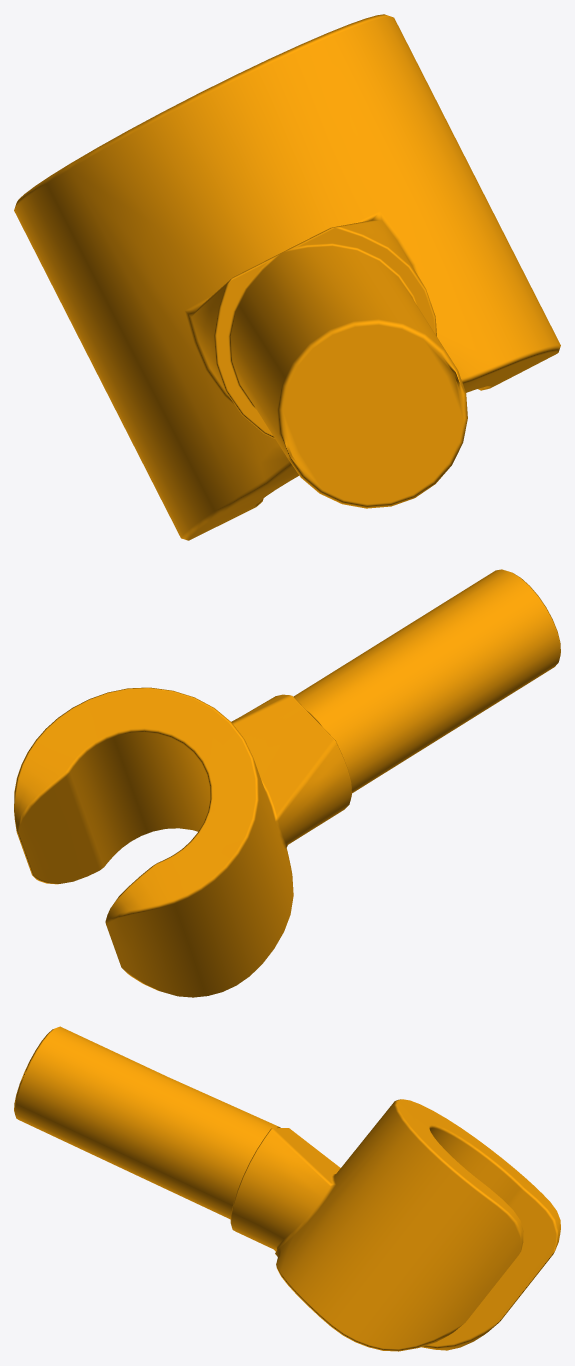
The model's file is MinifigHandLeft.glb.
3 renders of one model, top to bottom at view 1: azimuth 30°, elevation 25°; view 2: azimuth 150°, elevation 25°; view 3: azimuth 270°, elevation 25°, orthographic. The views are drawn at different scales.
Parts seen in each view (by area): view 1: HandRight.001; view 2: HandRight.001; view 3: HandRight.001.
Boxes of the visible parts, box(x1,y1,x2,y2) form: HandRight.001: box(14, 14, 560, 540); HandRight.001: box(14, 569, 560, 997); HandRight.001: box(14, 1026, 560, 1351).
Size of the model in its own units: 0.1472 by 0.1276 by 0.2343.
